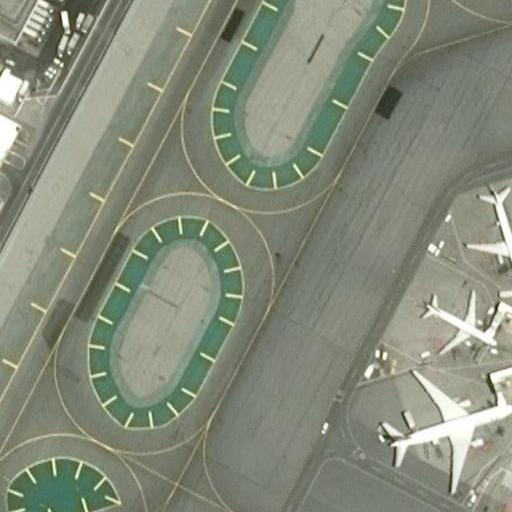Aircraft: (381, 363, 512, 492), (414, 283, 499, 358), (465, 185, 512, 292)
